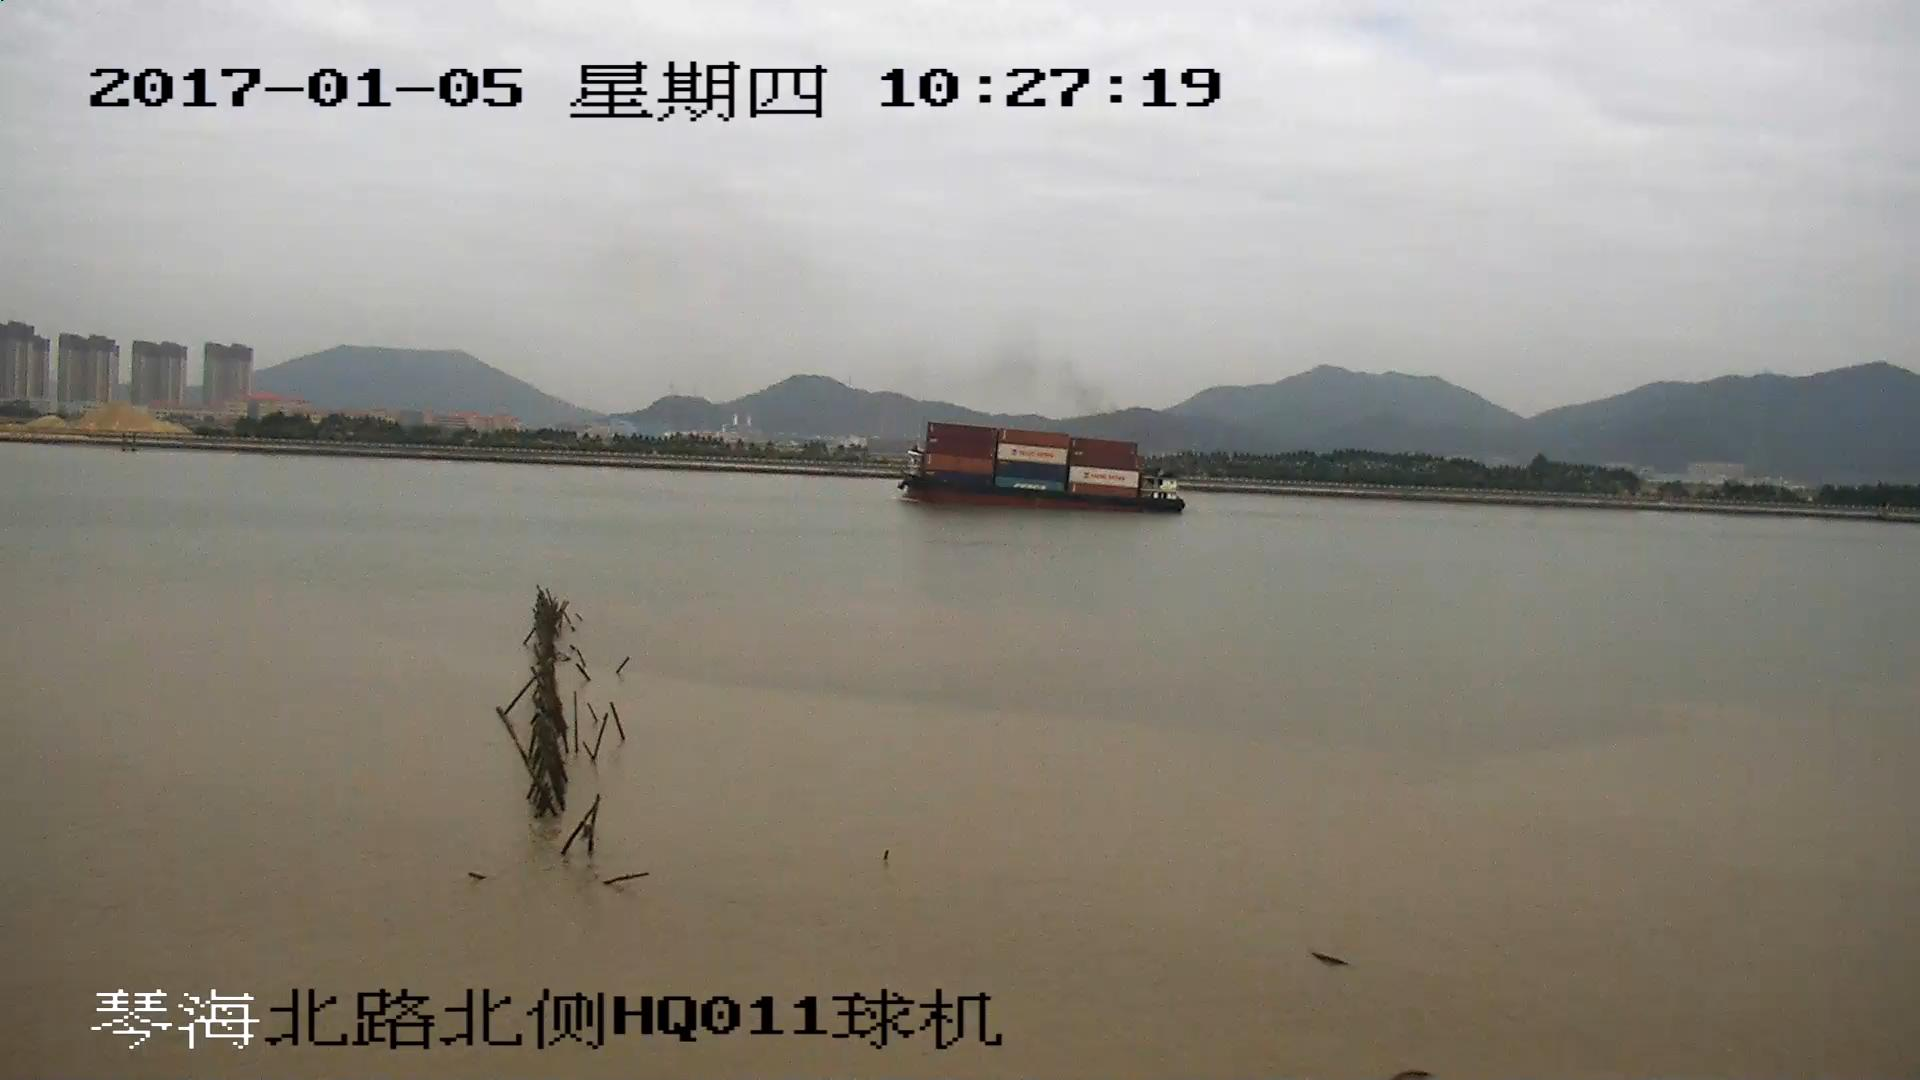container ship: (898, 426, 1187, 516)
